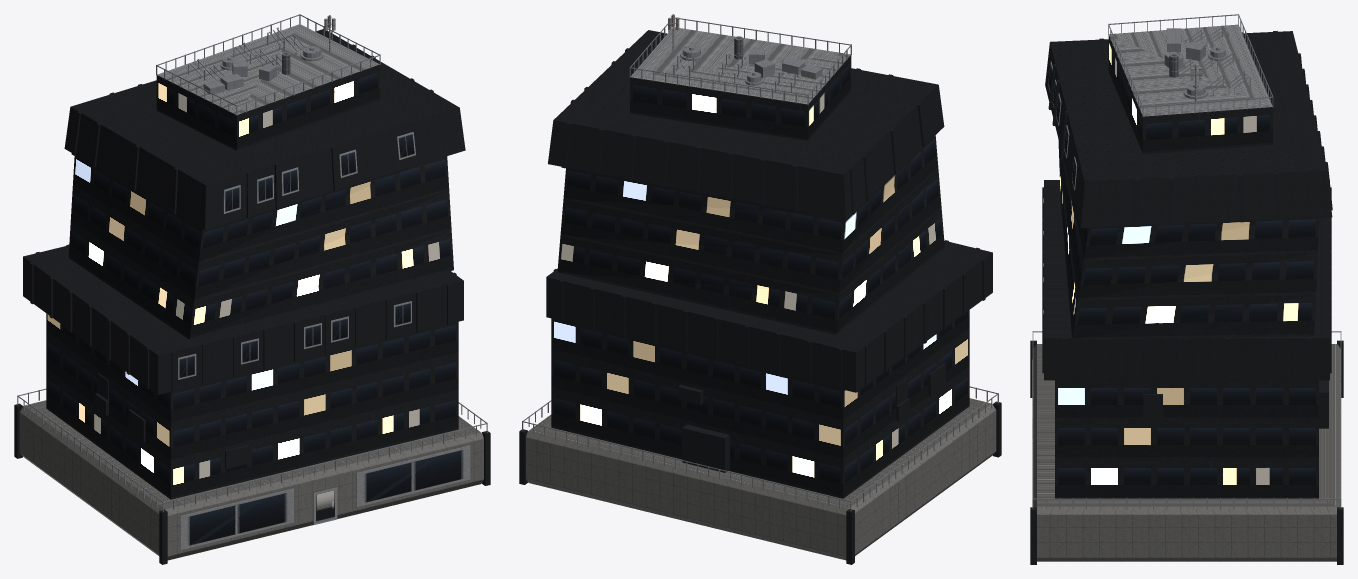
File: lumen-hq.glb
The picture shows the model from 3 angles, left to right: view 1: azimuth 30°, elevation 25°; view 2: azimuth 150°, elevation 25°; view 3: azimuth 270°, elevation 25°; orthographic projection. The views are drawn at different scales.
Visible parts, largest first — view 1: body, upper, meeting, ground, garden, crown; view 2: body, upper, meeting, ground, garden, crown; view 3: meeting, body, upper, ground, crown, garden.
Part boxes in pixels (x1,y1,x2,y2): body: [46, 313, 458, 499]; upper: [68, 155, 453, 339]; meeting: [64, 29, 465, 230]; ground: [14, 388, 490, 564]; garden: [23, 244, 463, 394]; crown: [156, 14, 380, 150]; body: [551, 310, 969, 498]; upper: [557, 135, 944, 334]; meeting: [548, 30, 944, 219]; ground: [519, 386, 1001, 564]; garden: [546, 240, 992, 392]; crown: [629, 14, 851, 140]; meeting: [1045, 30, 1332, 228]; body: [1055, 380, 1328, 498]; upper: [1058, 139, 1319, 339]; ground: [1030, 331, 1343, 564]; crown: [1108, 14, 1273, 154]; garden: [1042, 180, 1331, 380].
Size of the model in its own units: 36.49 by 45.93 by 28.49.
Materials: 9 (9 with a texture image).
